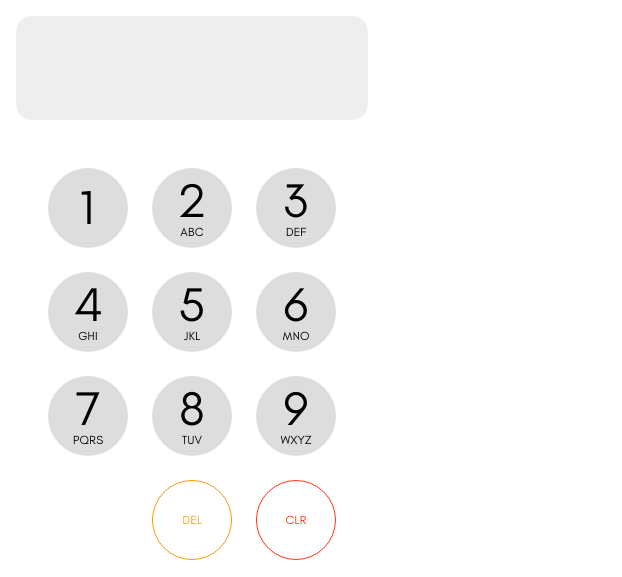
Scenario: handle no predictions
This screenshot has width=622, height=577.
Click the text "9".
click(296, 409)  # box [282,385,310,433]
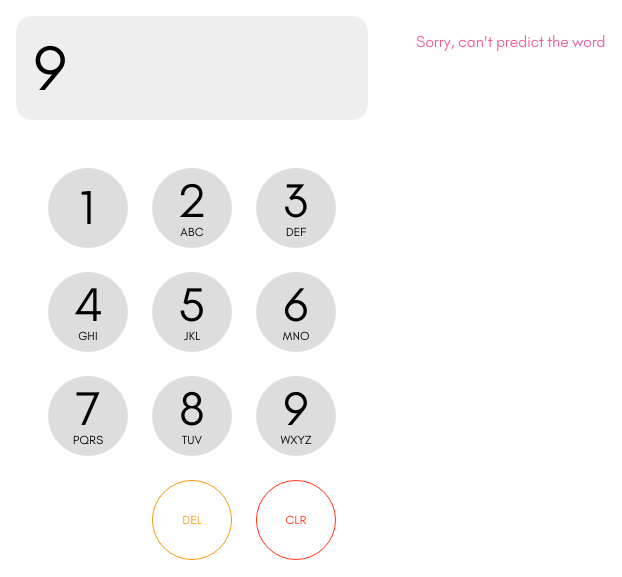
Now the text "Sorry, can't predict the word" is shown, box [416,32,606,51]
